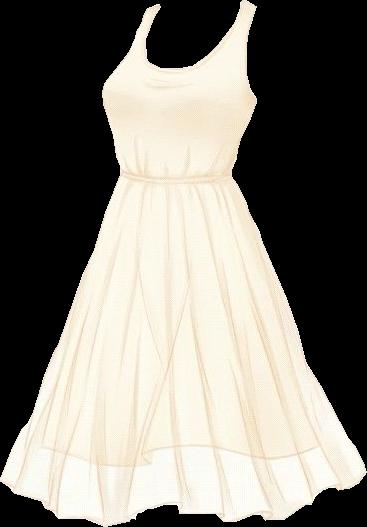Bodice: (102, 0, 256, 185)
Hemline: (0, 470, 366, 526)
Neckline: (142, 0, 247, 69)
Skirt: (0, 178, 366, 526)
Waistline: (117, 172, 233, 187)
